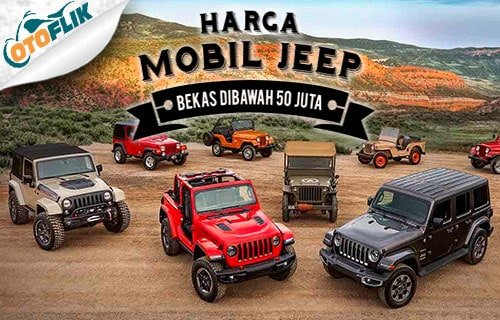mobil: (328, 171, 493, 305), (163, 168, 299, 289), (16, 139, 127, 243), (278, 140, 346, 222), (354, 126, 435, 167), (205, 119, 280, 158)
